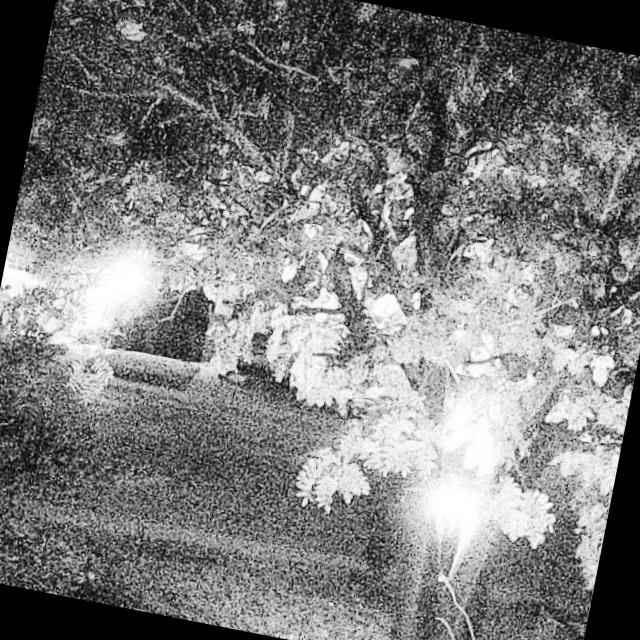Tree: (212, 0, 640, 640)
